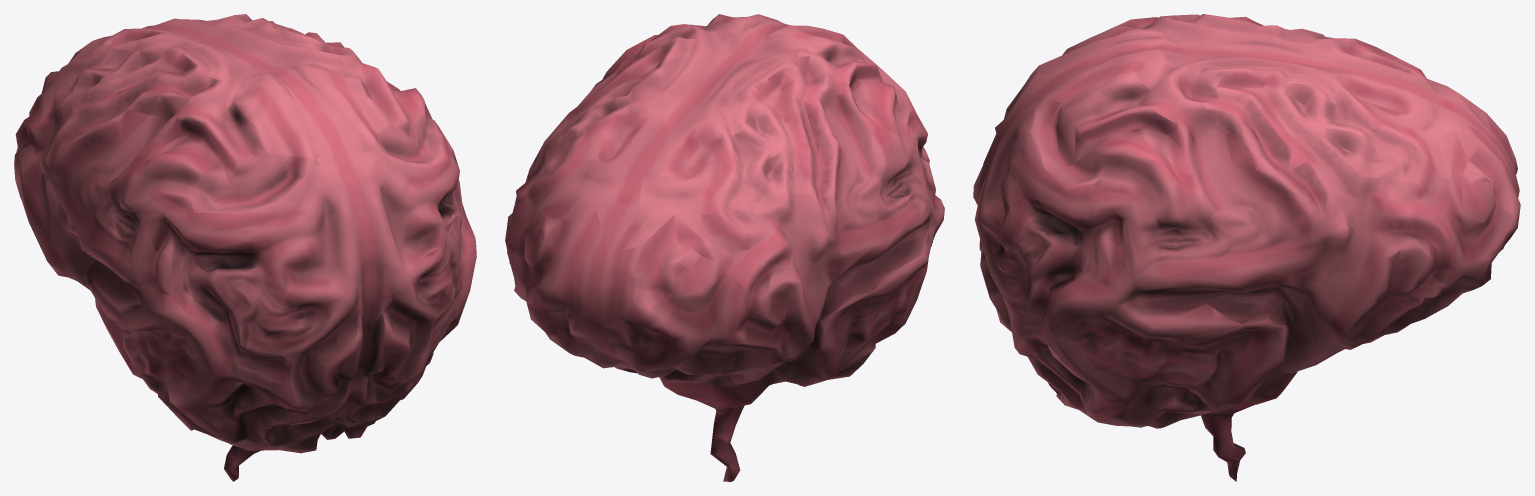
File: brain.gltf
3 views of the same model, side by side, from view 1: azimuth 30°, elevation 25°; view 2: azimuth 150°, elevation 25°; view 3: azimuth 270°, elevation 25° (orthographic). The views are drawn at different scales.
Parts seen in each view (by area): view 1: brain; view 2: brain; view 3: brain.
Boxes of the visible parts, x1,y1,x2,y2 form: brain: [14, 14, 476, 481]; brain: [505, 14, 944, 481]; brain: [973, 14, 1520, 481].
Bounding box in the file's own units: 1.03 × 1.27 × 1.42.
1 material, 1 textured.
